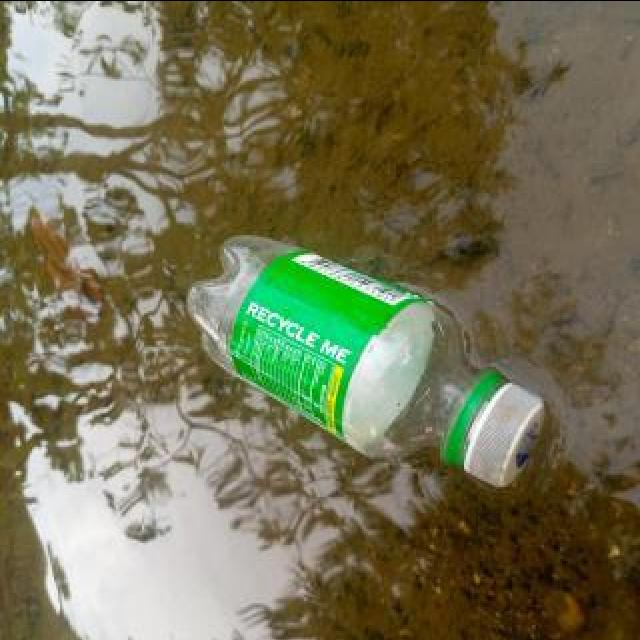Bottle: (179, 226, 553, 494)
